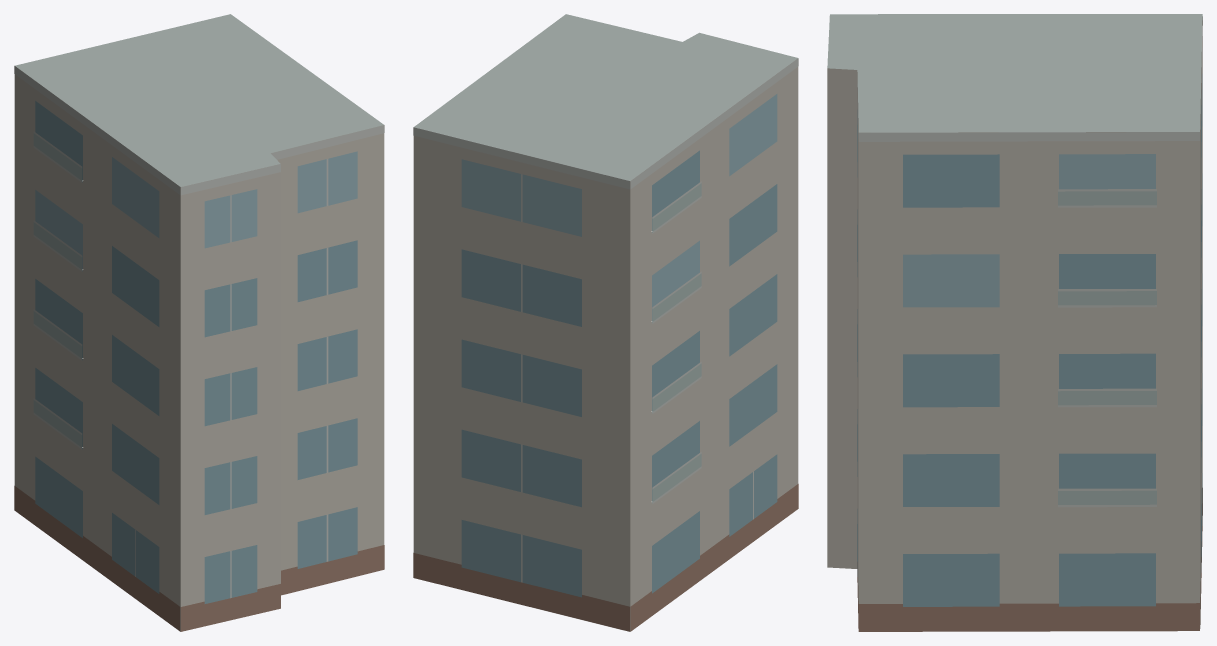
File: survey-upis-32800345.glb
The picture shows the model from 3 angles, left to right: view 1: azimuth 30°, elevation 25°; view 2: azimuth 150°, elevation 25°; view 3: azimuth 270°, elevation 25°; orthographic projection. The views are drawn at different scales.
Visible parts, largest first — view 1: survey-upis-32800345.tmp; view 2: survey-upis-32800345.tmp; view 3: survey-upis-32800345.tmp.
Part boxes in pixels (bbox=[...]): survey-upis-32800345.tmp: bbox=[14, 14, 384, 631]; survey-upis-32800345.tmp: bbox=[413, 14, 798, 631]; survey-upis-32800345.tmp: bbox=[827, 14, 1202, 631].
Bounding box in the file's own units: 6.78 × 13.2 × 9.01.
